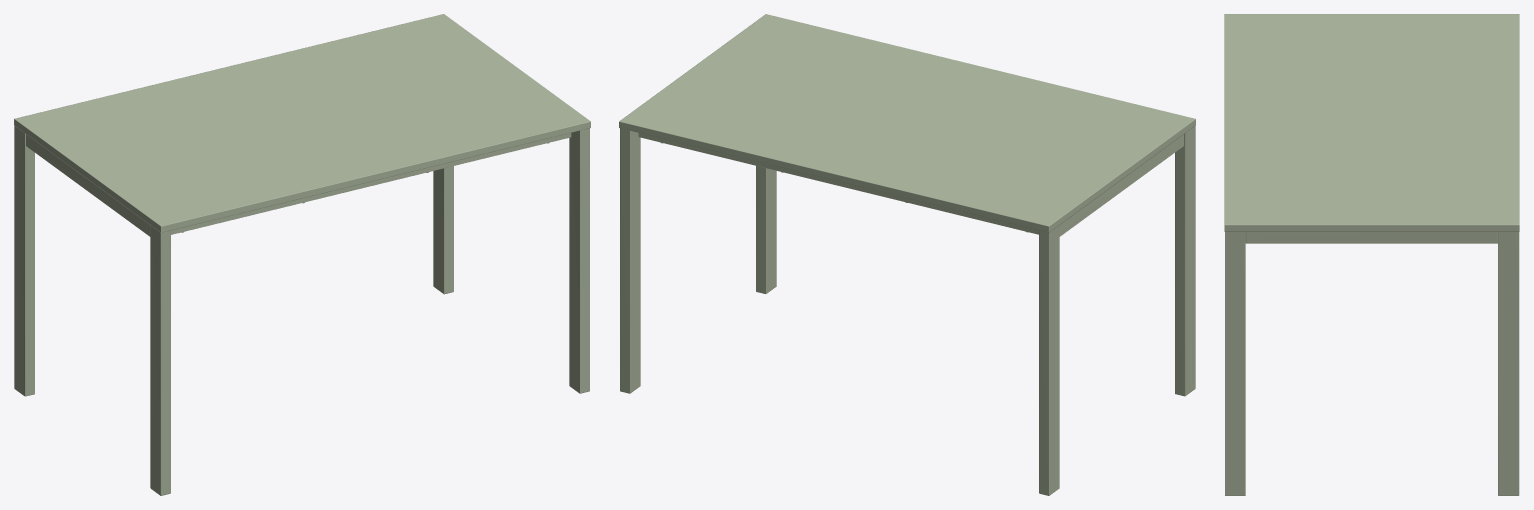
Rendered from 08 - VIHALS Table - greengreen 125x74 cm.glb.
3 renders of one model, left to right at view 1: azimuth 30°, elevation 25°; view 2: azimuth 150°, elevation 25°; view 3: azimuth 270°, elevation 25°, orthographic.
Parts seen in each view (by area): view 1: 39578514_table:1, 39578514_table:2; view 2: 39578514_table:1, 39578514_table:2; view 3: 39578514_table:1, 39578514_table:2.
Boxes of the visible parts, left/top/right/bottom form: 39578514_table:1: left=14, top=14, right=590, bottom=232; 39578514_table:2: left=14, top=126, right=589, bottom=495; 39578514_table:1: left=619, top=14, right=1195, bottom=232; 39578514_table:2: left=620, top=126, right=1195, bottom=495; 39578514_table:1: left=1224, top=14, right=1519, bottom=231; 39578514_table:2: left=1225, top=231, right=1519, bottom=495.
Size of the model in its own units: 1.25 by 0.7499 by 0.7401.
